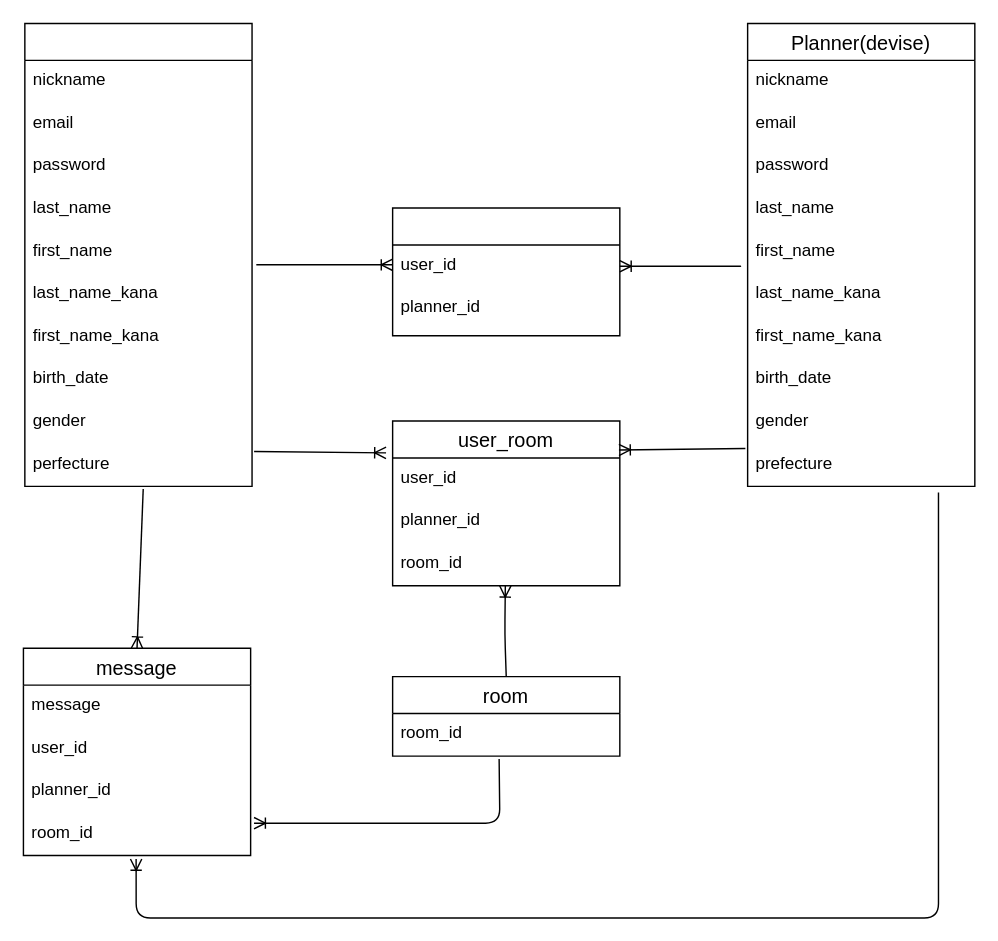
Image size: 998x941. Some labels were removed from this diagram. Each missing label, with the box of its shape:
User(devise): (23, 22, 252, 486)
user_planner: (391, 207, 620, 336)
